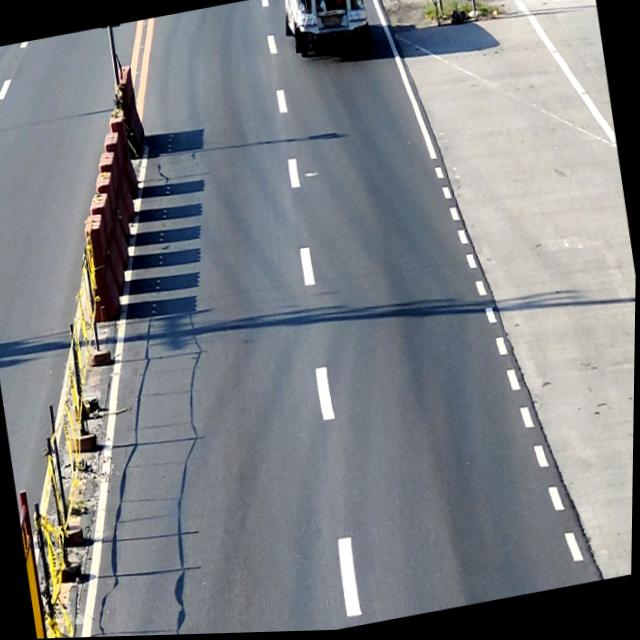Jeep: (280, 0, 373, 65)
License-Plate: (323, 16, 342, 32)
